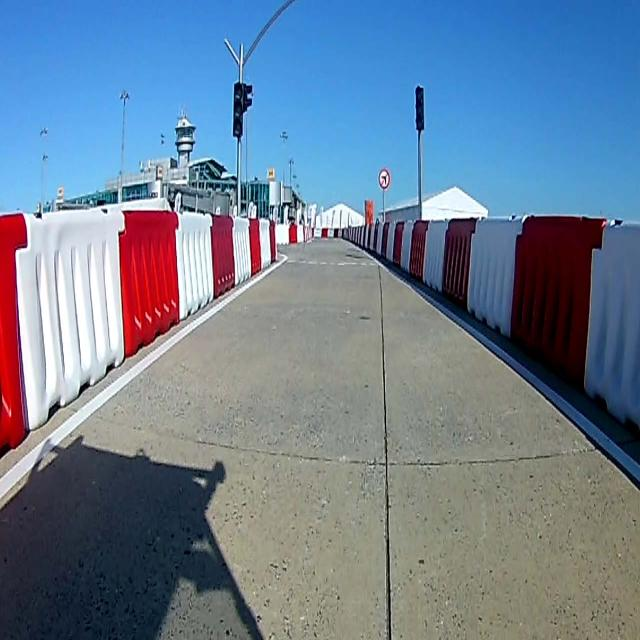soladonulmez: (380, 169, 390, 189)
